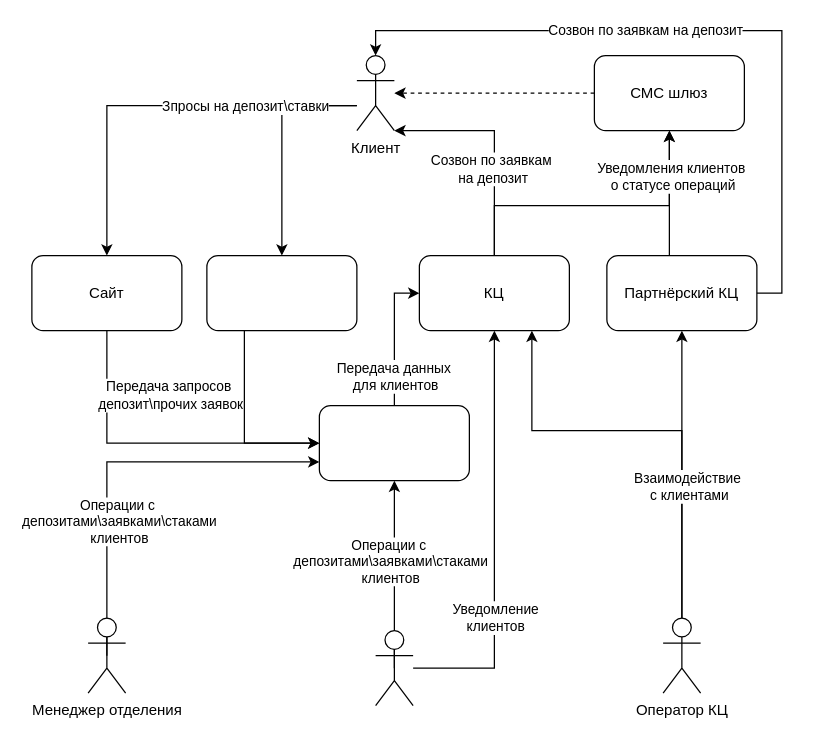
This 814x754 diagram has some shape labels left out. Each missing label, with the box of its shape:
АБС: (318, 404, 469, 481)
Интернет-банк: (206, 254, 357, 331)
Менеджер бэк офиса: (374, 629, 413, 706)
